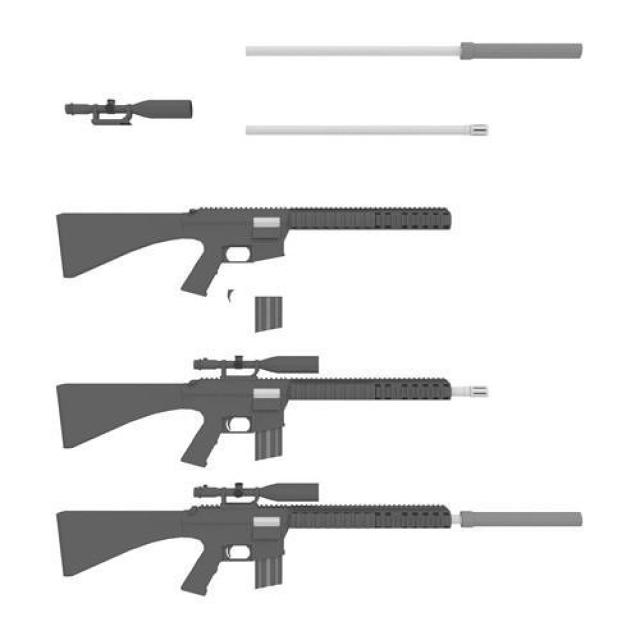Rifle: (59, 484, 585, 598), (56, 356, 489, 470), (56, 207, 454, 300)
